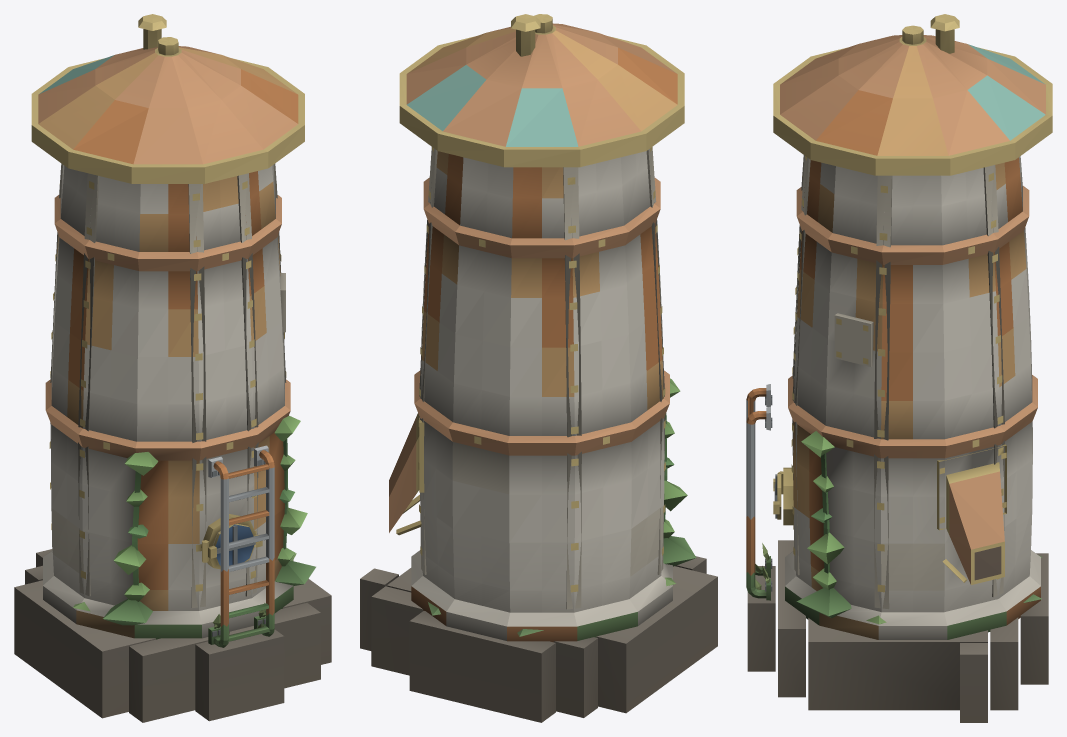
The model's file is silo.glb.
The picture shows the model from 3 angles, left to right: view 1: azimuth 30°, elevation 25°; view 2: azimuth 150°, elevation 25°; view 3: azimuth 270°, elevation 25°; orthographic projection. The views are drawn at different scales.
Parts seen in each view (by area): view 1: silo; view 2: silo; view 3: silo.
Boxes of the visible parts, x1,y1,x2,y2 form: silo: (14, 14, 331, 722); silo: (360, 14, 717, 722); silo: (746, 14, 1052, 722).
Size of the model in its own units: 4.98 by 11.55 by 5.04.
